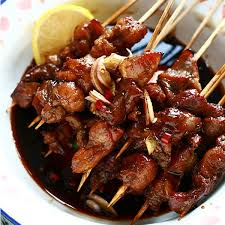sate: (22, 13, 225, 219)
